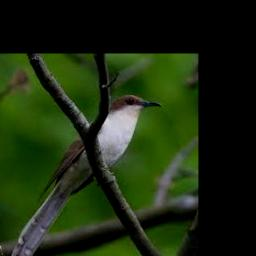Cuckoo: (9, 95, 162, 256)
